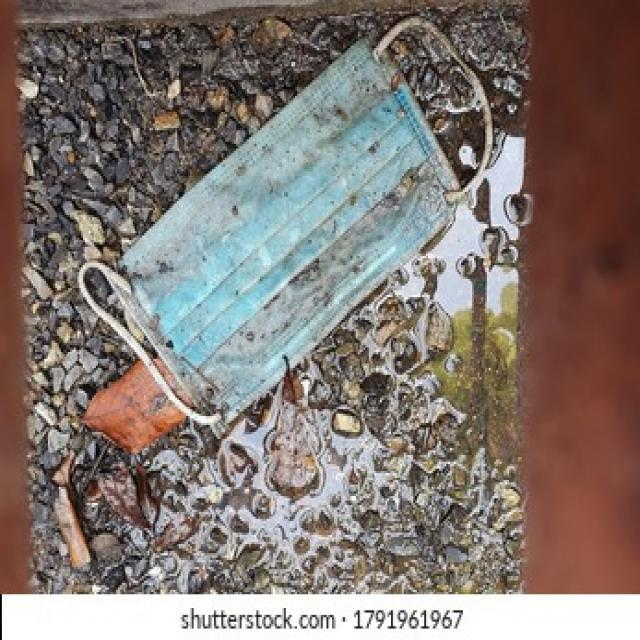face mask: (85, 25, 498, 434)
